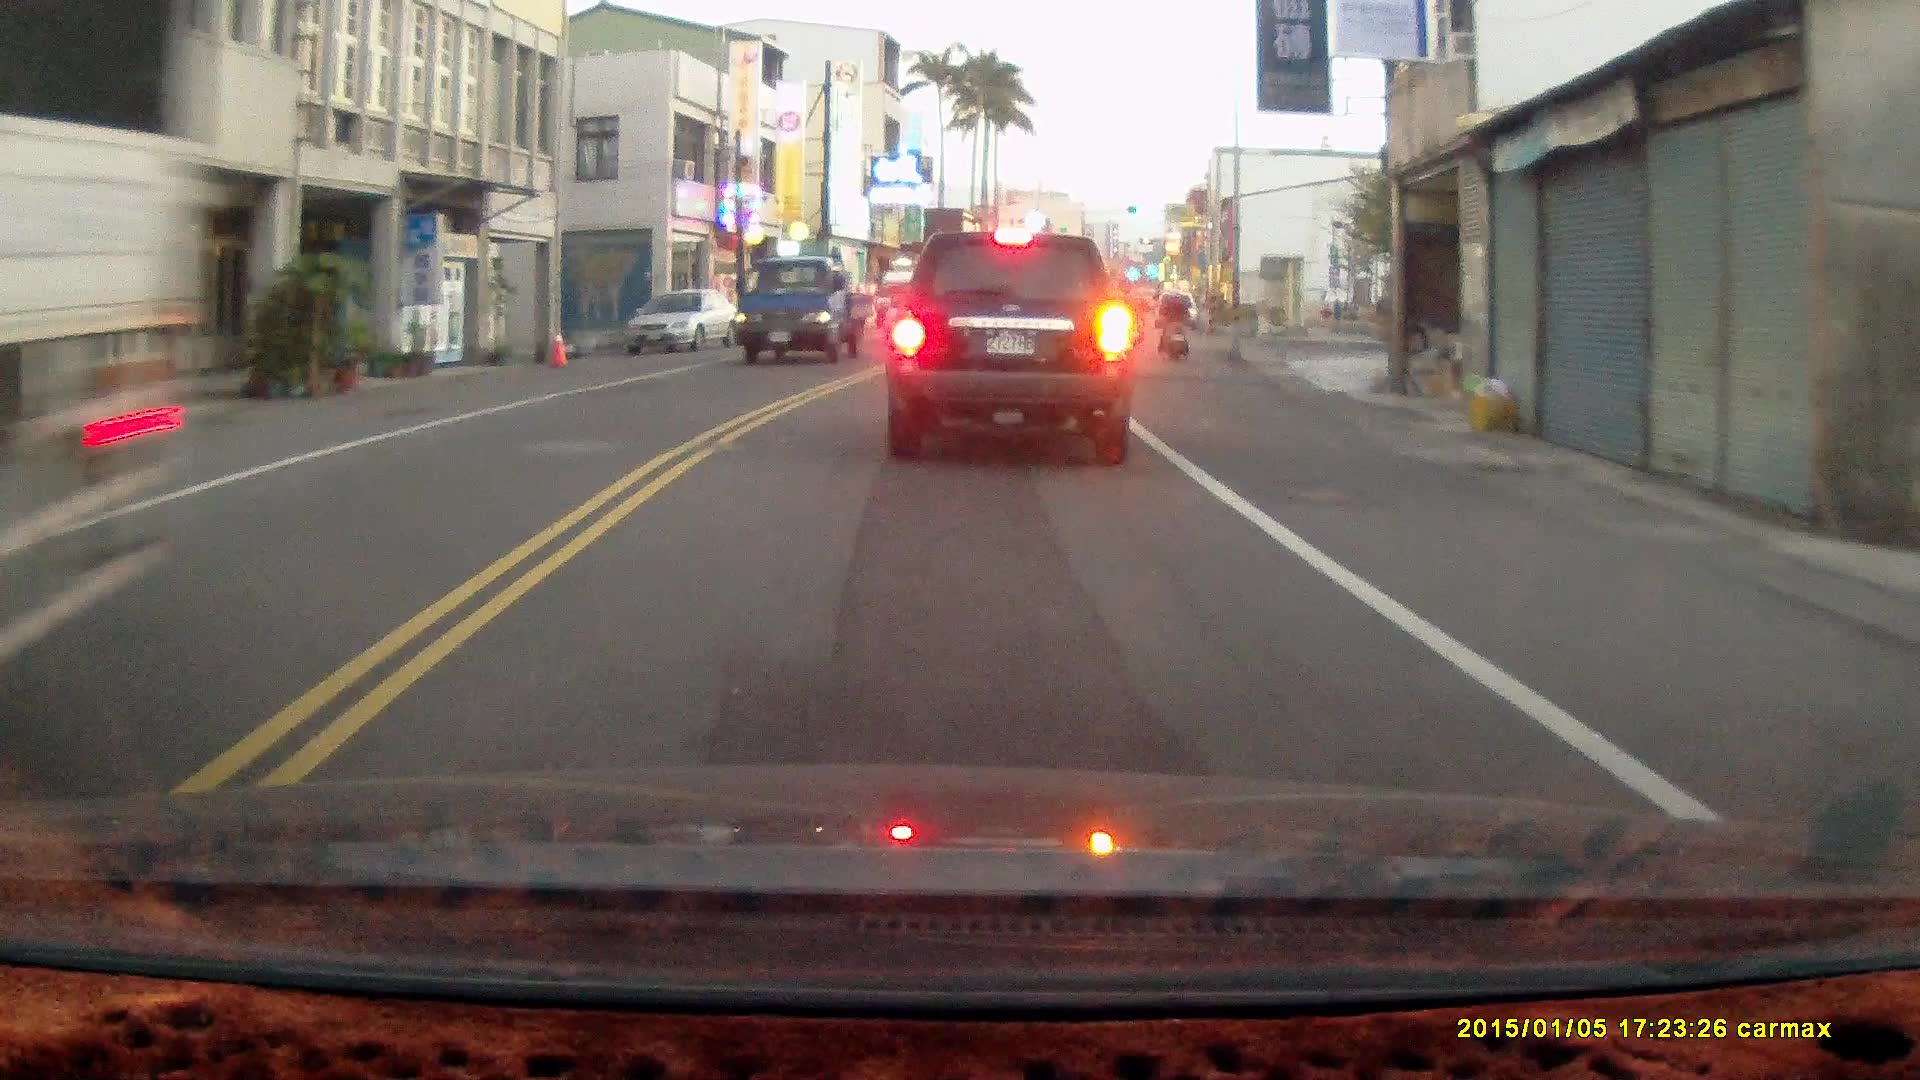rider: (1157, 280, 1188, 361), (1119, 286, 1146, 352)
vehicle: (1, 9, 218, 798), (884, 226, 1135, 463), (730, 255, 868, 368), (621, 288, 745, 355)
